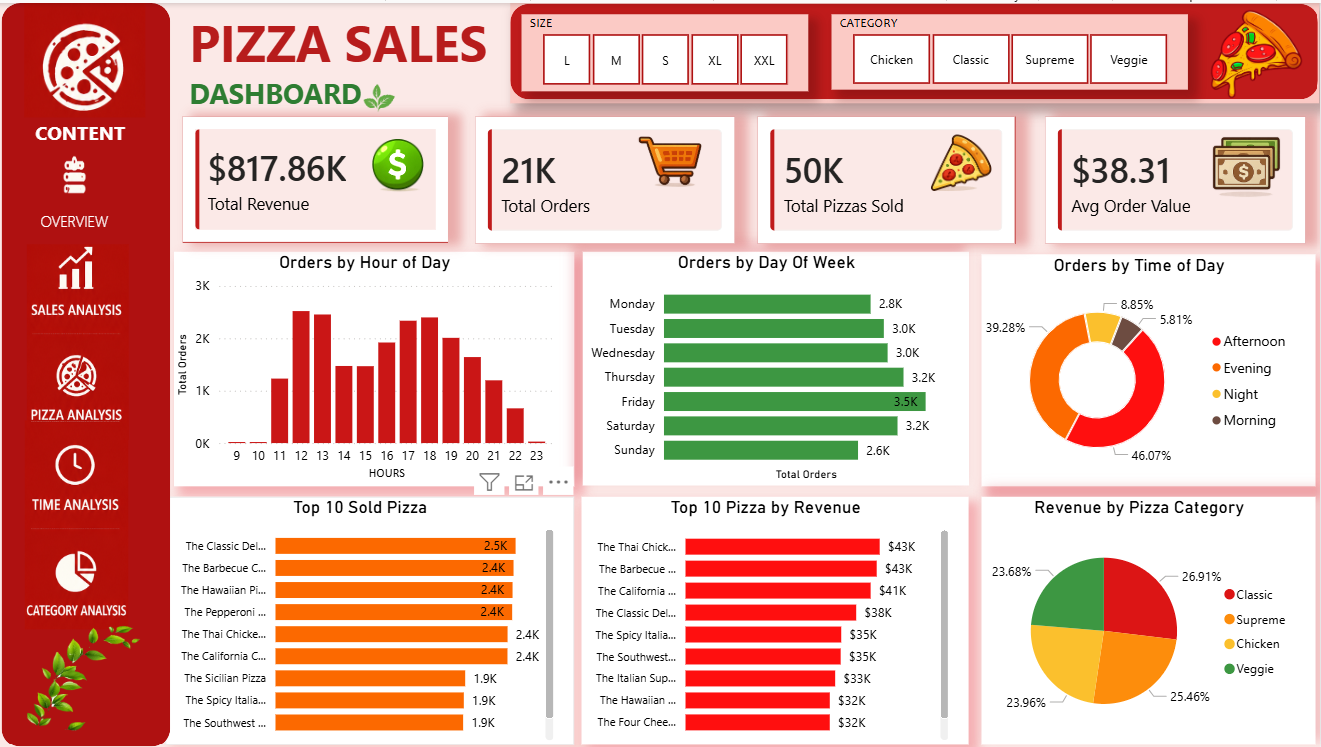

What the dashboard file says about the page in this screenshot:
{"tool":"powerbi","page":{"name":"Page 1","canvas":[1280,720],"ordinal":0},"visuals":[{"type":"clusteredColumnChart","title":" Orders by Hour of Day","fields":{"Category":["orders.Hour"],"Y":["order_details.Total Orders"]},"box":[173.8,240,386.2,226.2],"z":0},{"type":"clusteredBarChart","title":"Orders by Day Of Week","fields":{"Y":["order_details.Total Orders"],"Category":["orders.Day Name"]},"box":[568.2,240.1,372.8,225.6],"z":1000},{"type":"clusteredBarChart","title":"Top 10 Sold Pizza","fields":{"Category":["pizza_type.name"],"Y":["order_details.Total Pizzas Sold"]},"box":[165.3,476.5,394.5,240.1],"z":2000},{"type":"clusteredBarChart","title":"Top 10 Pizza by Revenue","fields":{"Category":["pizza_type.name"],"Y":["order_details.Total Revenue"]},"box":[567,476.5,374,240.1],"z":3000},{"type":"donutChart","title":"Orders by Time of Day","fields":{"Category":["orders.Time Period"],"Y":["order_details.Total Orders"]},"box":[952.5,242.5,322.5,223.8],"z":4000},{"type":"pieChart","title":"Revenue by Pizza Category","fields":{"Category":["pizza_type.category"],"Y":["order_details.Total Revenue"]},"box":[952.5,476.2,322.5,240],"z":5000},{"type":"cardVisual","fields":{"Data":["order_details.Total Revenue"]},"box":[182.5,110.2,256.2,121.2],"z":6000},{"type":"shape","box":[498.6,0,781.4,97.1],"z":7000},{"type":"shape","box":[7.1,0,162.9,718.6],"z":8000},{"type":"textbox","box":[182.9,0,344.3,134.3],"z":9000},{"type":"image","box":[338.6,122.9,100,64.3],"z":10000},{"type":"cardVisual","fields":{"Data":["order_details.Total Orders"]},"box":[465,109.5,250,122.5],"z":11000},{"type":"cardVisual","fields":{"Data":["order_details.Total Pizzas Sold"]},"box":[737.5,109.5,248.8,122.5],"z":12000},{"type":"cardVisual","fields":{"Data":["order_details.Avg Order Value"]},"box":[1015,109.5,251.2,122.5],"z":13000},{"type":"image","box":[612.9,110,88.6,74.3],"z":14000},{"type":"image","box":[878.6,118.4,107.1,74.3],"z":15000},{"type":"image","box":[1152.9,107,127.1,97.1],"z":16000},{"type":"image","box":[11.4,0,154.3,110],"z":17000},{"type":"textbox","box":[1.4,107.1,164.3,48.6],"z":18000},{"type":"textbox","box":[40,197.1,114.3,45.7],"z":19000},{"type":"image","box":[18.6,232.9,125.7,188.6],"z":20000},{"type":"image","box":[17.1,402.9,125.7,201.4],"z":21000},{"type":"image","box":[10,134.3,138.6,65.7],"z":22000},{"type":"image","box":[12.9,595.7,142.9,112.9],"z":23000},{"type":"image","box":[1152.9,0,127.1,97.1],"z":24000},{"type":"slicer","fields":{"Values":["pizza_type.category"]},"box":[808.6,11.4,344.3,72.9],"z":25000},{"type":"slicer","fields":{"Values":["pizza.size"]},"box":[508.6,11.4,277.1,74.3],"z":27000},{"type":"image","box":[330,67.1,82.9,48.6],"z":28000}]}

Visuals, with their boxes in screenshot pixels (x1, y1, x2, y2), scaled from the page's 1280x720 canvas onto the 1321x747 screenshot:
" Orders by Hour of Day" clusteredColumnChart: (179,249,578,484)
"Orders by Day Of Week" clusteredBarChart: (586,249,971,483)
"Top 10 Sold Pizza" clusteredBarChart: (171,494,578,743)
"Top 10 Pizza by Revenue" clusteredBarChart: (585,494,971,743)
"Orders by Time of Day" donutChart: (983,252,1316,484)
"Revenue by Pizza Category" pieChart: (983,494,1316,743)
cardVisual - order_details.Total Revenue: (188,114,453,240)
shape: (515,0,1320,101)
shape: (7,0,175,746)
textbox: (189,0,544,139)
image: (349,128,453,194)
cardVisual - order_details.Total Orders: (480,114,738,241)
cardVisual - order_details.Total Pizzas Sold: (761,114,1018,241)
cardVisual - order_details.Avg Order Value: (1048,114,1307,241)
image: (633,114,724,191)
image: (907,123,1017,200)
image: (1190,111,1320,212)
image: (12,0,171,114)
textbox: (1,111,171,162)
textbox: (41,204,159,252)
image: (19,242,149,437)
image: (18,418,147,627)
image: (10,139,153,208)
image: (13,618,161,735)
image: (1190,0,1320,101)
slicer - pizza_type.category: (835,12,1190,87)
slicer - pizza.size: (525,12,811,89)
image: (341,70,426,120)
